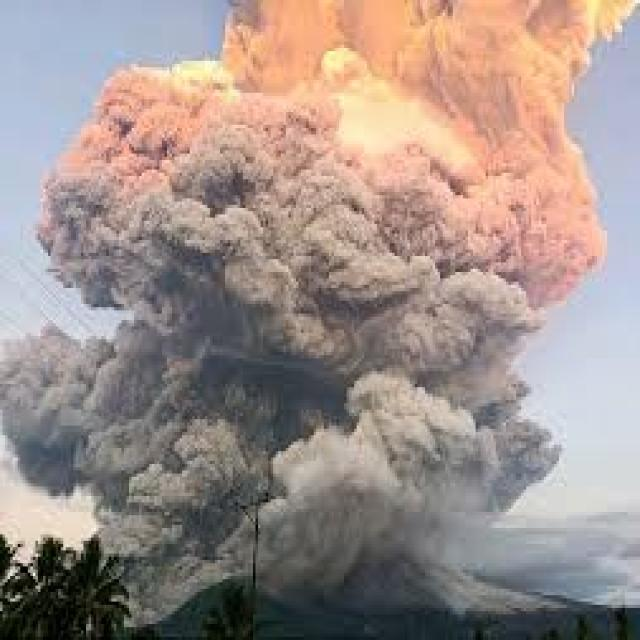explosion: (12, 0, 595, 631)
